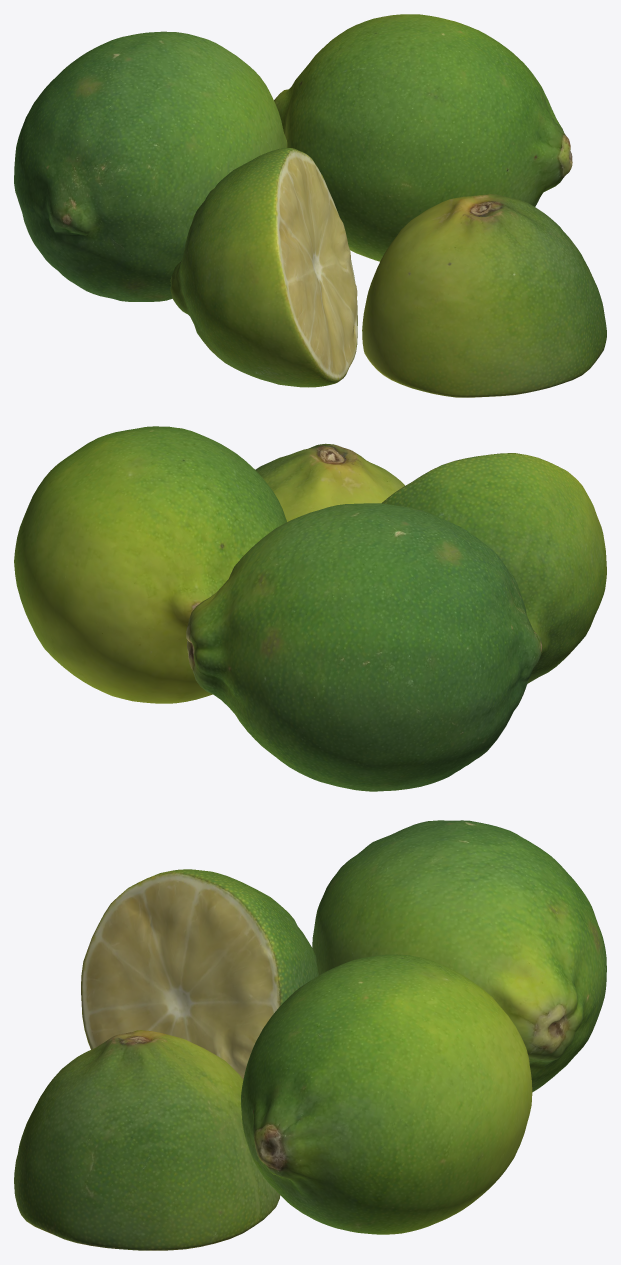
File: lime-0.glb
The picture shows the model from 3 angles, top to bottom: view 1: azimuth 30°, elevation 25°; view 2: azimuth 150°, elevation 25°; view 3: azimuth 270°, elevation 25°; orthographic projection. The views are drawn at different scales.
Parts seen in each view (by area): view 1: Object_2, Object_3, Object_5, Object_4; view 2: Object_2, Object_3, Object_4, Object_5; view 3: Object_3, Object_5, Object_2, Object_4.
Part boxes in pixels (x1=…): Object_2: x1=14, y1=31, x2=287, y2=301; Object_3: x1=274, y1=14, x2=572, y2=261; Object_5: x1=362, y1=194, x2=606, y2=397; Object_4: x1=170, y1=148, x2=357, y2=387; Object_2: x1=186, y1=503, x2=541, y2=791; Object_3: x1=14, y1=426, x2=286, y2=703; Object_4: x1=382, y1=453, x2=606, y2=683; Object_5: x1=255, y1=443, x2=404, y2=521; Object_3: x1=241, y1=954, x2=532, y2=1234; Object_5: x1=14, y1=1030, x2=280, y2=1250; Object_2: x1=312, y1=820, x2=606, y2=1092; Object_4: x1=81, y1=869, x2=318, y2=1079.
Bounding box in the file's own units: 9.23 × 4.58 × 9.14.
Materials: 4 (4 with a texture image).
